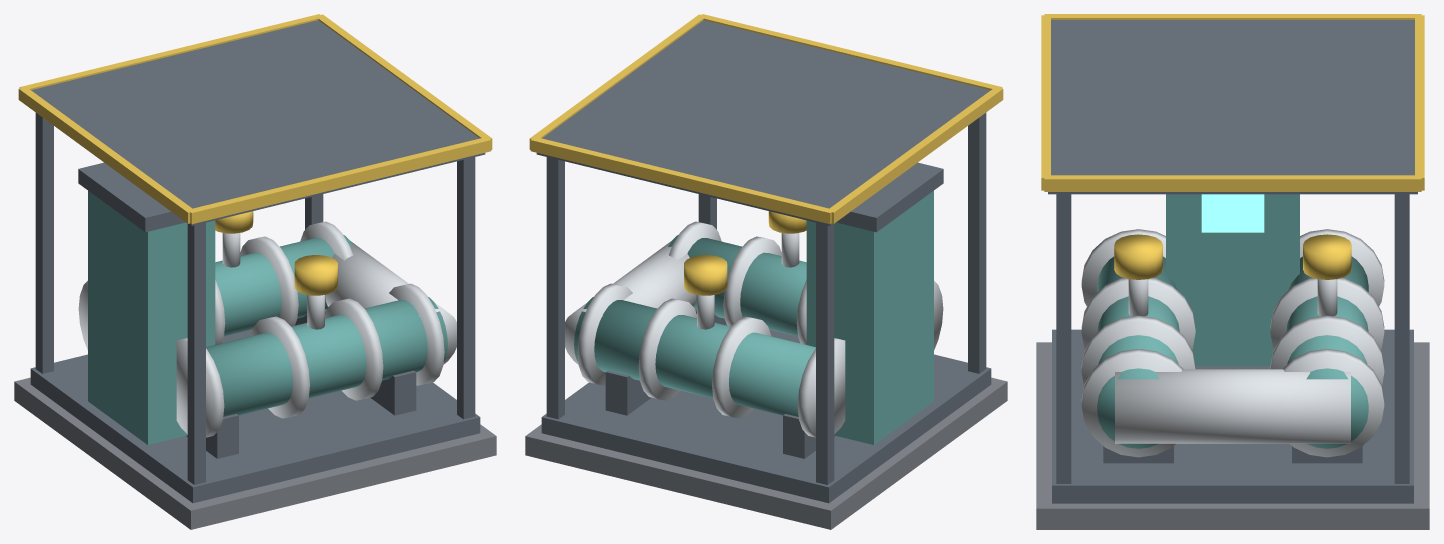
File: metering_skid.glb
The picture shows the model from 3 angles, left to right: view 1: azimuth 30°, elevation 25°; view 2: azimuth 150°, elevation 25°; view 3: azimuth 270°, elevation 25°; orthographic projection. The views are drawn at different scales.
Parts seen in each view (by area): view 1: CanopyRoof, SkidFrame, TelemetryCab, SkidPad, MeterPipe_-0.24, MeterPipe_0.24, CanopyPost_-0.44_-0.43, CanopyPost_0.44_-0.43, CanopyTrimS, CanopyPost_-0.44_0.43, CrossHeader, CanopyTrimW (+15 smaller); view 2: CanopyRoof, SkidFrame, TelemetryCab, SkidPad, MeterPipe_0.24, MeterPipe_-0.24, CanopyPost_-0.44_0.43, CanopyPost_0.44_0.43, CanopyTrimN, CanopyPost_-0.44_-0.43, CrossHeader, CanopyTrimW (+15 smaller); view 3: CanopyRoof, SkidFrame, CrossHeader, TelemetryCab, SkidPad, CanopyTrimE, CanopyPost_0.44_0.43, CanopyPost_0.44_-0.43, MeterPipe_0.24, MeterPipe_-0.24, MeterFlange_0.24_0.38, MeterFlange_-0.24_0.38 (+16 smaller).
Part boxes in pixels (x1,y1,x2,y2): CanopyRoof: (31, 20, 485, 225); SkidFrame: (30, 329, 480, 503); TelemetryCab: (88, 191, 215, 444); SkidPad: (14, 377, 496, 529); MeterPipe_-0.24: (206, 297, 447, 416); MeterPipe_0.24: (215, 235, 353, 336); CanopyPost_-0.44_-0.43: (187, 222, 205, 484); CanopyPost_0.44_-0.43: (457, 157, 475, 419); CanopyTrimS: (188, 137, 491, 224); CanopyPost_-0.44_0.43: (35, 112, 53, 373); CrossHeader: (325, 241, 456, 371); CanopyTrimW: (18, 88, 193, 223); CanopyRoof: (536, 20, 990, 225); SkidFrame: (541, 329, 991, 503); TelemetryCab: (806, 191, 933, 444); SkidPad: (525, 377, 1007, 529); MeterPipe_0.24: (574, 297, 815, 416); MeterPipe_-0.24: (668, 235, 806, 336); CanopyPost_-0.44_0.43: (816, 222, 834, 484); CanopyPost_0.44_0.43: (546, 157, 564, 419); CanopyTrimN: (530, 137, 833, 224); CanopyPost_-0.44_-0.43: (968, 112, 986, 373); CrossHeader: (565, 241, 696, 371); CanopyTrimW: (827, 88, 1003, 223); CanopyRoof: (1048, 20, 1417, 194); SkidFrame: (1052, 329, 1413, 503); CrossHeader: (1115, 369, 1350, 443); TelemetryCab: (1166, 194, 1299, 365); SkidPad: (1036, 342, 1429, 529); CanopyTrimE: (1044, 175, 1421, 191); CanopyPost_0.44_0.43: (1394, 194, 1409, 483); CanopyPost_0.44_-0.43: (1056, 194, 1071, 483); MeterPipe_0.24: (1286, 256, 1368, 448); MeterPipe_-0.24: (1097, 256, 1179, 448); MeterFlange_0.24_0.38: (1282, 348, 1384, 457); MeterFlange_-0.24_0.38: (1081, 348, 1183, 457).
Size of the model in its own units: 1 by 0.9825 by 1.
